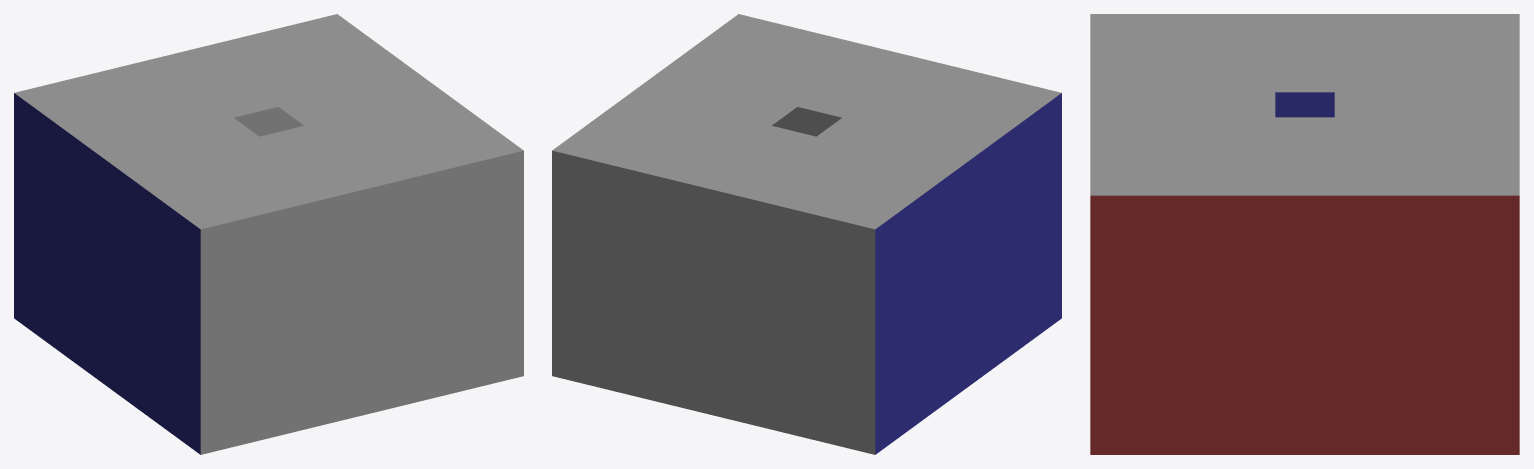
File: Cornell_NoLight.obj
3 views of the same model, side by side, from view 1: azimuth 30°, elevation 25°; view 2: azimuth 150°, elevation 25°; view 3: azimuth 270°, elevation 25° (orthographic). The views are drawn at different scales.
Visible parts, largest first — view 1: Cornell_Plane.007; view 2: Cornell_Plane.007; view 3: Cornell_Plane.007.
Part boxes in pixels (bbox=[...]): Cornell_Plane.007: bbox=[14, 14, 523, 454]; Cornell_Plane.007: bbox=[552, 14, 1061, 454]; Cornell_Plane.007: bbox=[1090, 14, 1519, 454].
Bounding box in the file's own units: 90 × 60 × 90.
